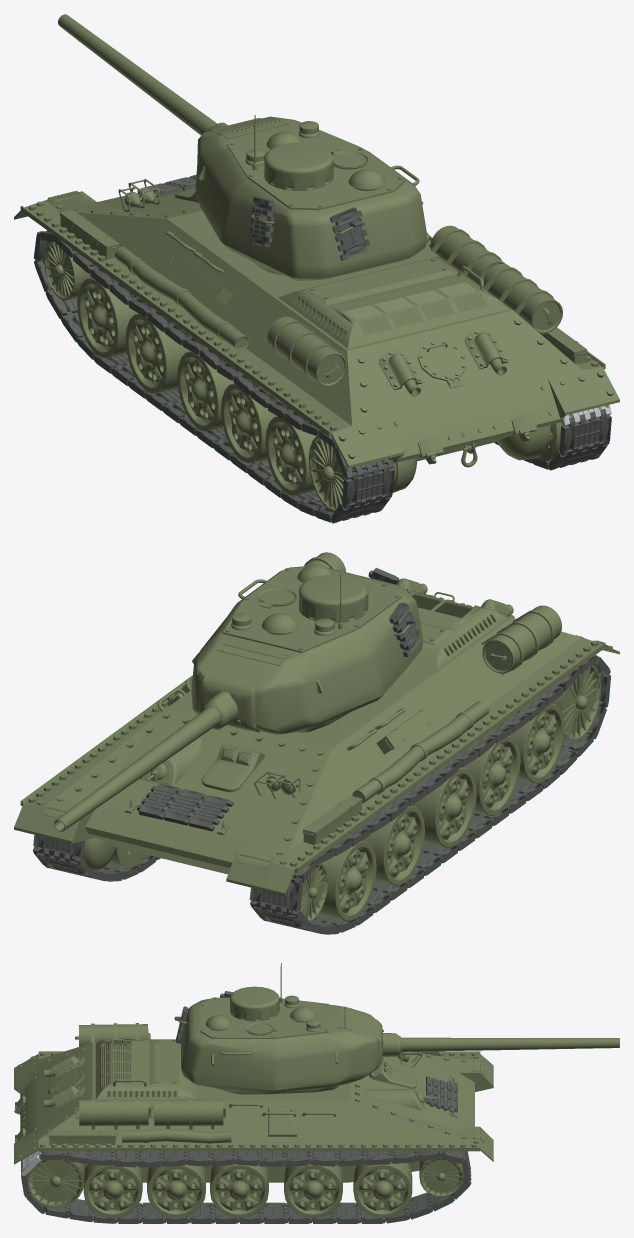
The picture shows the model from 3 angles, top to bottom: view 1: azimuth 30°, elevation 25°; view 2: azimuth 150°, elevation 25°; view 3: azimuth 270°, elevation 25°; orthographic projection. The views are drawn at different scales.
Parts seen in each view (by area): view 1: V_t3485__Body_2, V_t3485__Turret_1, V_t3485__Body_4, V_t3485__Body_3, V_t3485__Body_5, V_t3485__Gun_1, V_t3485__W03_1, V_t3485__W04_1, V_t3485__W02_1, V_t3485__W05_1, V_t3485__W01_1, V_t3485__Turret_2; view 2: V_t3485__Body_2, V_t3485__Turret_1, V_t3485__Body_4, V_t3485__Body_3, V_t3485__Gun_1, V_t3485__Body_5, V_t3485__W04_1, V_t3485__W02_1, V_t3485__W03_1, V_t3485__W01_1, V_t3485__W05_1, V_t3485__Turret_2; view 3: V_t3485__Body_2, V_t3485__Turret_1, V_t3485__Body_5, V_t3485__Body_3, V_t3485__Body_4, V_t3485__Gun_1, V_t3485__W06_1, V_t3485__W08_1, V_t3485__W10_1, V_t3485__W07_1, V_t3485__W09_1.
Part boxes in pixels (x1,y1,x2,y2): V_t3485__Body_2: (14,188,619,512); V_t3485__Turret_1: (195,115,435,290); V_t3485__Body_4: (40,175,611,523); V_t3485__Body_3: (36,179,614,464); V_t3485__Body_5: (33,231,498,522); V_t3485__Gun_1: (58,14,261,135); V_t3485__W03_1: (125,313,190,393); V_t3485__W04_1: (77,278,138,358); V_t3485__W02_1: (177,351,234,431); V_t3485__W05_1: (265,416,317,496); V_t3485__W01_1: (221,383,277,463); V_t3485__Turret_2: (249,197,369,260); V_t3485__Body_2: (14,552,619,921); V_t3485__Turret_1: (191,564,433,734); V_t3485__Body_4: (33,655,611,925); V_t3485__Body_3: (37,578,612,869); V_t3485__Gun_1: (54,669,260,831); V_t3485__Body_5: (136,731,593,934); V_t3485__W04_1: (319,841,376,921); V_t3485__W02_1: (412,767,476,847); V_t3485__W03_1: (362,805,424,885); V_t3485__W01_1: (461,736,520,815); V_t3485__W05_1: (509,703,564,783); V_t3485__Turret_2: (368,567,420,656); V_t3485__Body_2: (14,1023,493,1207); V_t3485__Turret_1: (173,963,383,1094); V_t3485__Body_5: (39,1151,418,1223); V_t3485__Body_3: (14,1040,484,1158); V_t3485__Body_4: (21,1076,471,1223); V_t3485__Gun_1: (370,1017,619,1070); V_t3485__W06_1: (353,1162,412,1217); V_t3485__W08_1: (210,1163,268,1217); V_t3485__W10_1: (83,1164,142,1217); V_t3485__W07_1: (284,1163,342,1217); V_t3485__W09_1: (147,1164,205,1217).
Bounding box in the file's own units: 8.15 × 7.83 × 21.58.
